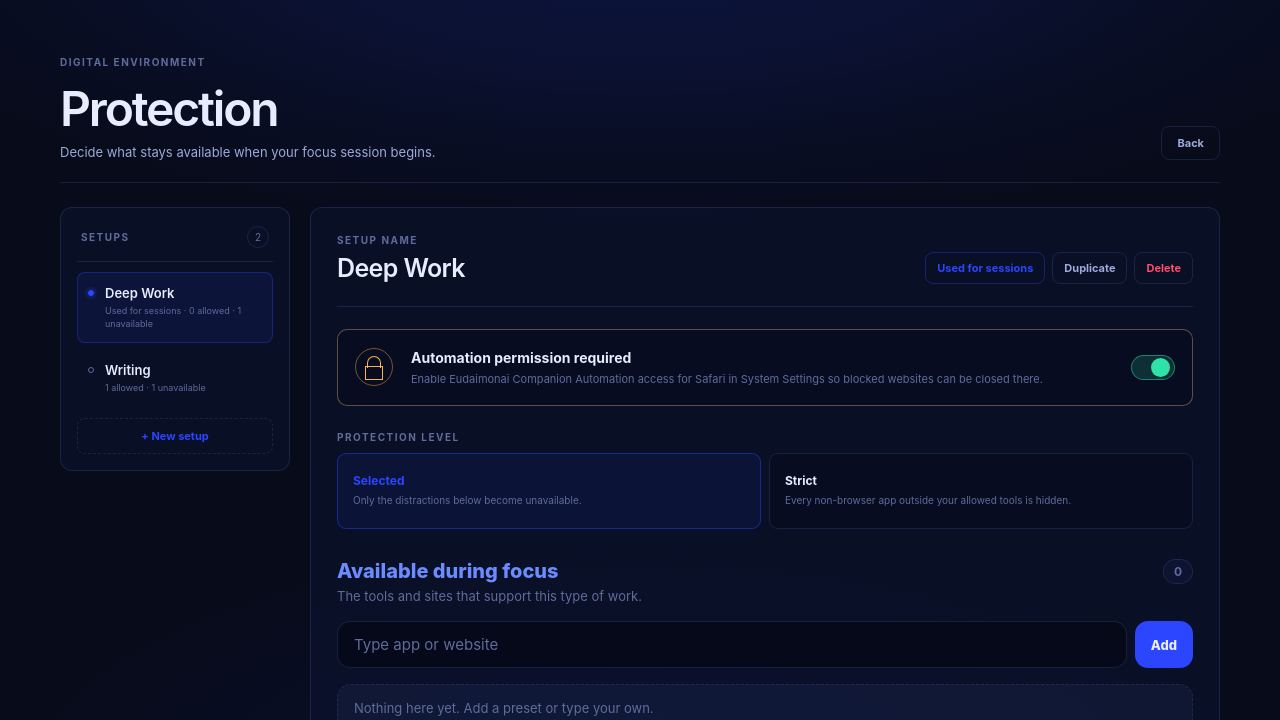
FocusAppsScreen readiness › keeps a browser permission gap scoped to setups that block websites
Expected: the text "Automation access for Safari in System Settings so blocked websites can be closed there" is shown, left=411, top=372, right=1043, bottom=386
Click the button "Writing 1 allowed · 1 unavailable" at (175, 378), box left=77, top=349, right=273, bottom=408
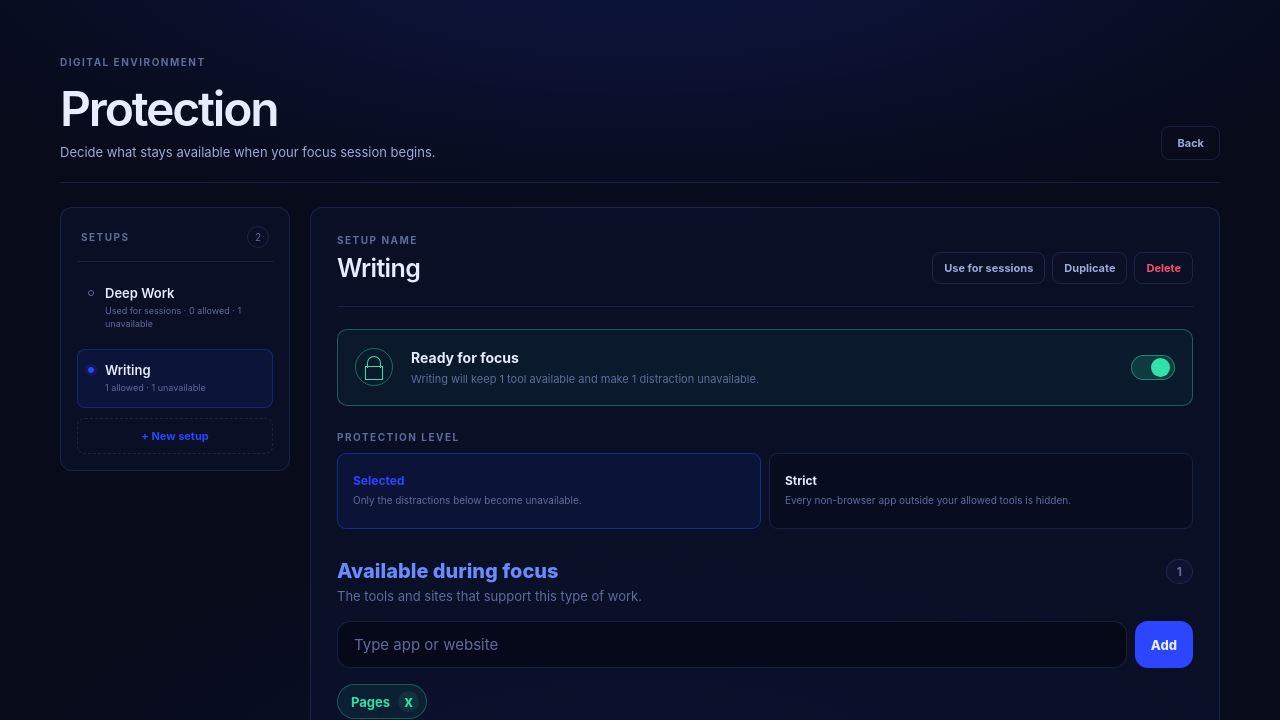
Expected: the text "Ready for focus" is shown, left=411, top=349, right=519, bottom=366
